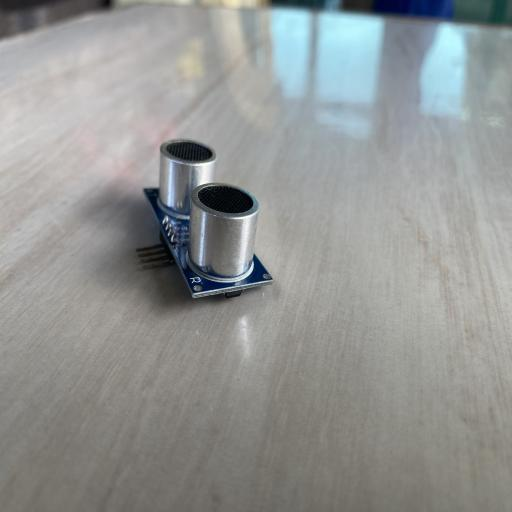Ultrasonic Sensor: (135, 137, 273, 300)
